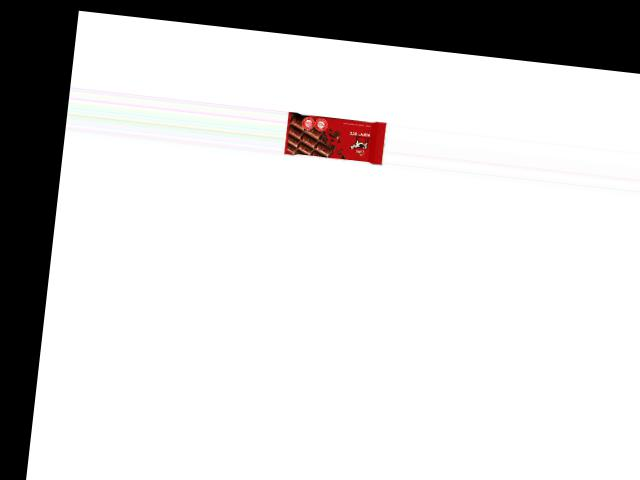chocolate: (284, 111, 388, 164)
